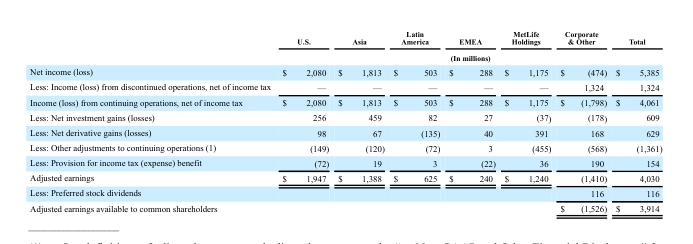table: (29, 29, 661, 213)
table column: (29, 29, 275, 213), (275, 29, 332, 213), (332, 29, 388, 213), (443, 29, 499, 213), (554, 29, 610, 213), (388, 29, 443, 213), (499, 29, 554, 213), (610, 29, 661, 213)
table column header: (29, 29, 661, 64)
table row: (29, 29, 661, 49), (29, 139, 661, 155), (29, 49, 661, 64), (29, 64, 661, 79), (29, 79, 661, 94), (29, 94, 661, 109), (29, 109, 661, 124), (29, 124, 661, 139), (29, 155, 661, 170), (29, 170, 661, 185), (29, 185, 661, 200), (29, 200, 661, 213)
table spanning cell: (275, 49, 661, 64)
